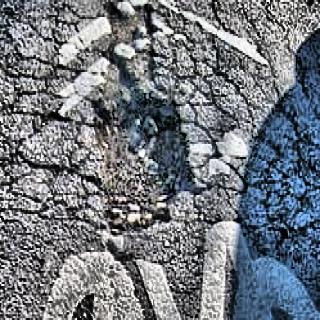alligator-crack: (181, 65, 317, 258), (0, 0, 106, 240), (151, 2, 232, 106)
crack: (264, 0, 320, 127)
pothole: (91, 89, 200, 245)
